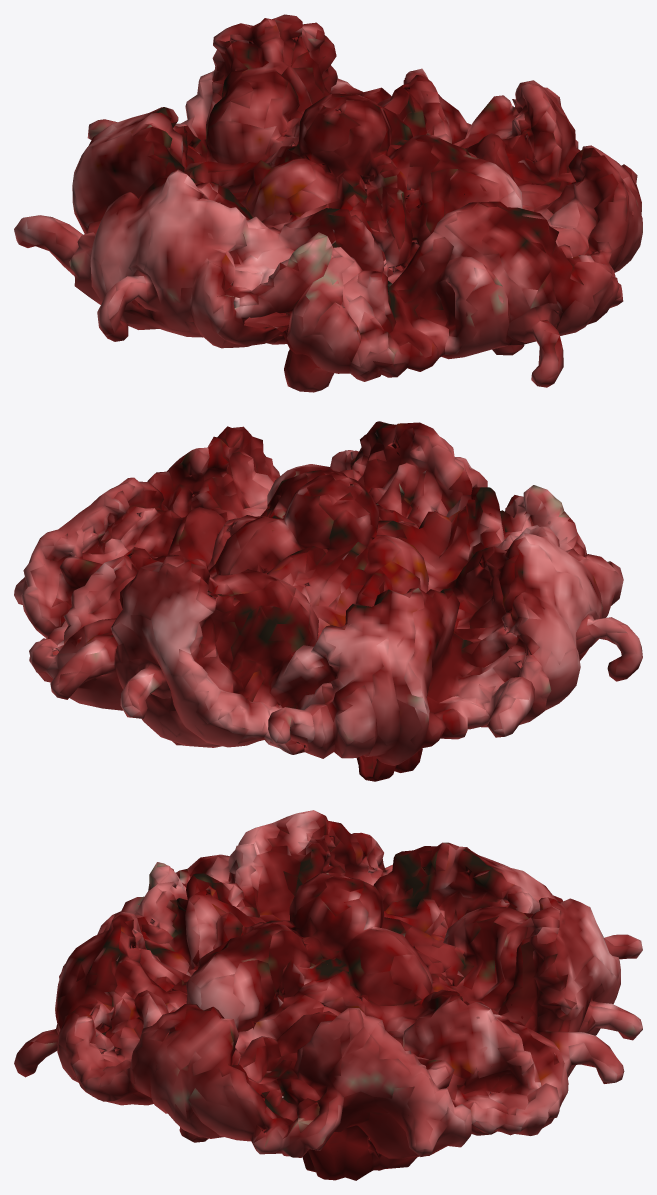
Rendered from SARGK0.obj.
The picture shows the model from 3 angles, top to bottom: view 1: azimuth 30°, elevation 25°; view 2: azimuth 150°, elevation 25°; view 3: azimuth 270°, elevation 25°; orthographic projection.
Size of the model in its own units: 0.9966 by 0.3869 by 1.
Materials: 1 (1 with a texture image).
